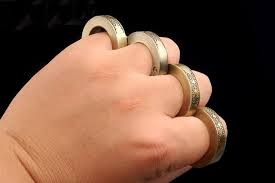fist: (53, 28, 209, 170)
